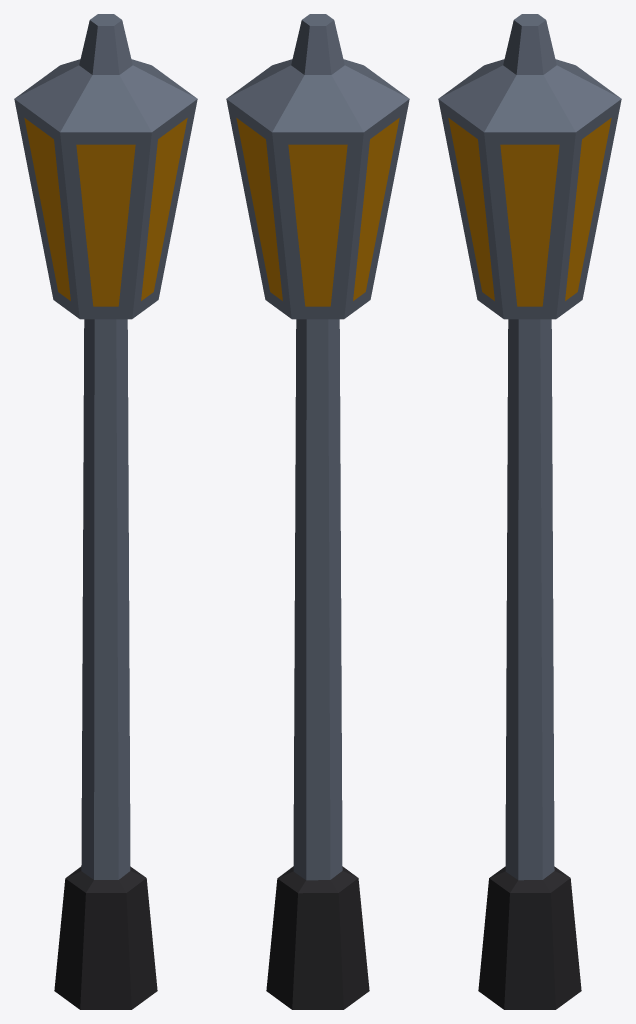
File: Lantern 3.fbx
3 views of the same model, side by side, from view 1: azimuth 30°, elevation 25°; view 2: azimuth 150°, elevation 25°; view 3: azimuth 270°, elevation 25° (orthographic).
Parts seen in each view (by area): view 1: Lantern_03; view 2: Lantern_03; view 3: Lantern_03.
Part boxes in pixels (box(x1,y1,x2,y2)): Lantern_03: box(14, 14, 197, 1009); Lantern_03: box(226, 14, 409, 1009); Lantern_03: box(438, 14, 621, 1009).
Size of the model in its own units: 33.09 by 223 by 38.2.
